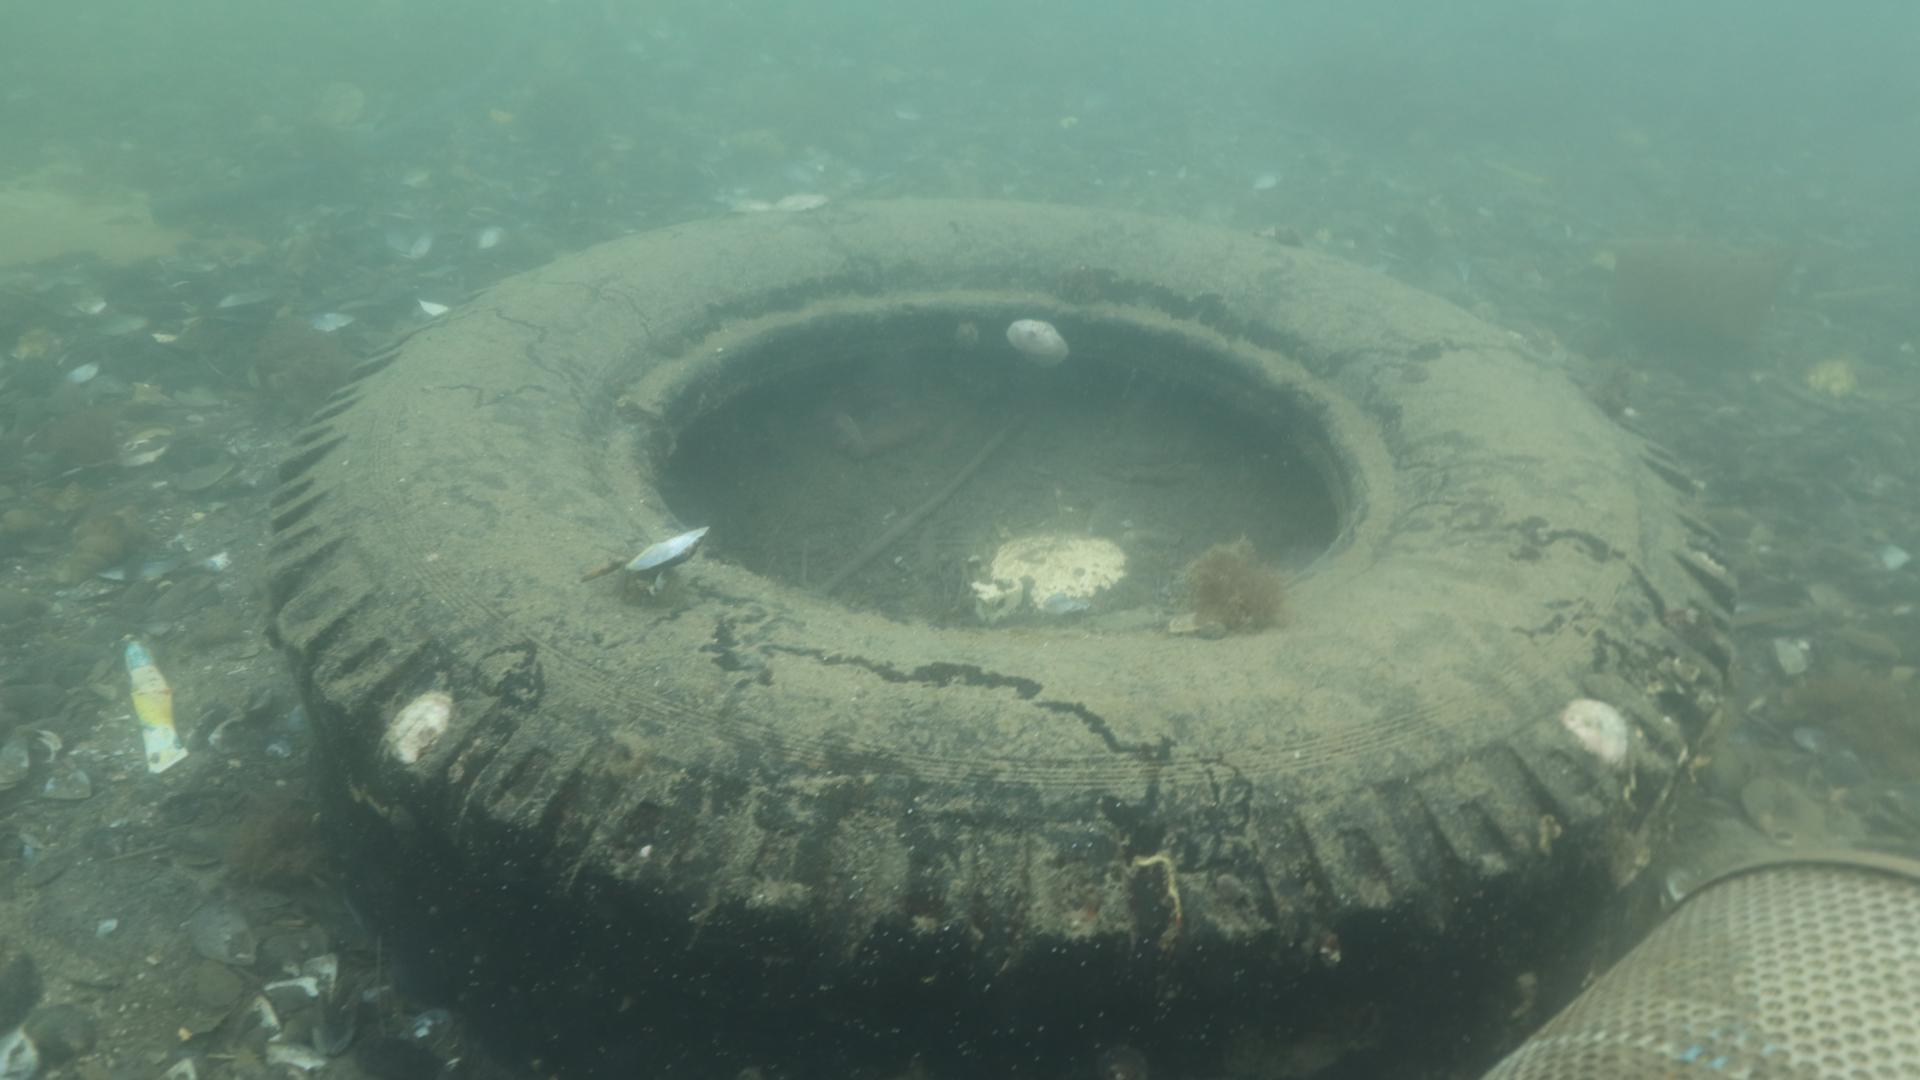tire: (264, 196, 1738, 1080)
